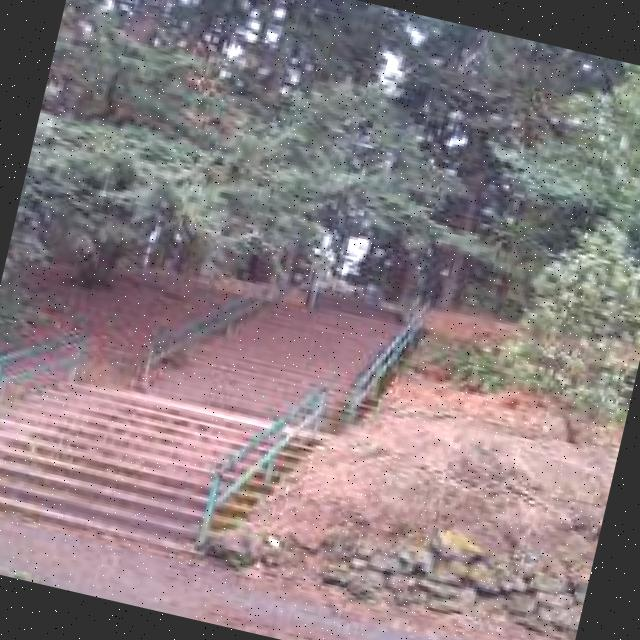stairs: (0, 161, 371, 597)
